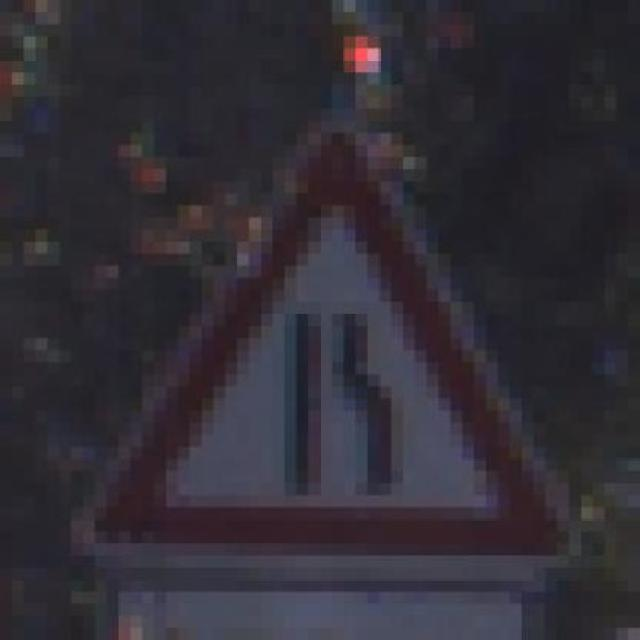-Road narrows on right: (71, 108, 592, 580)
